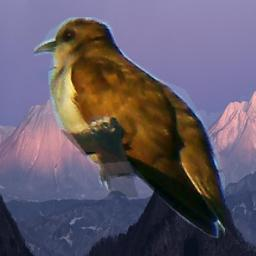Cuckoo: (34, 17, 225, 242)
